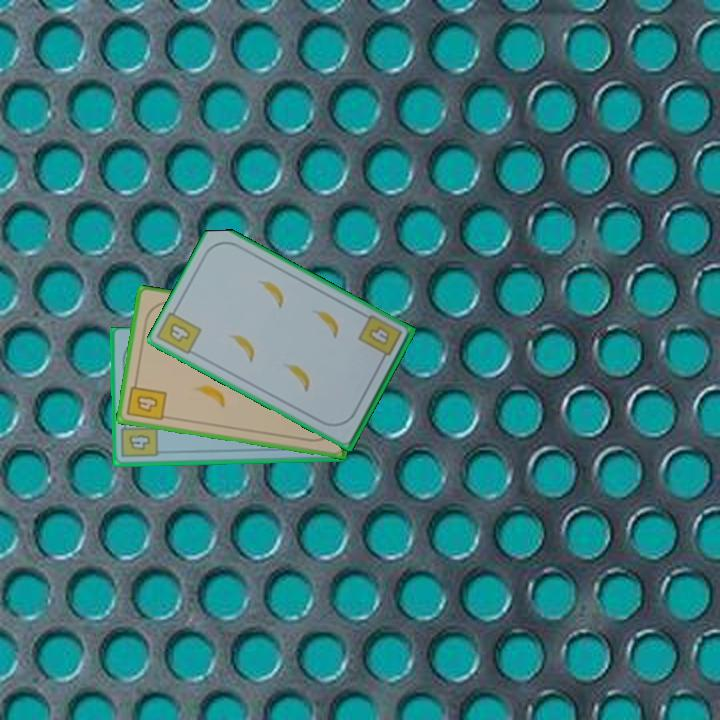4b: (355, 311, 405, 366), (124, 376, 169, 423), (118, 418, 161, 460), (165, 319, 193, 345)
